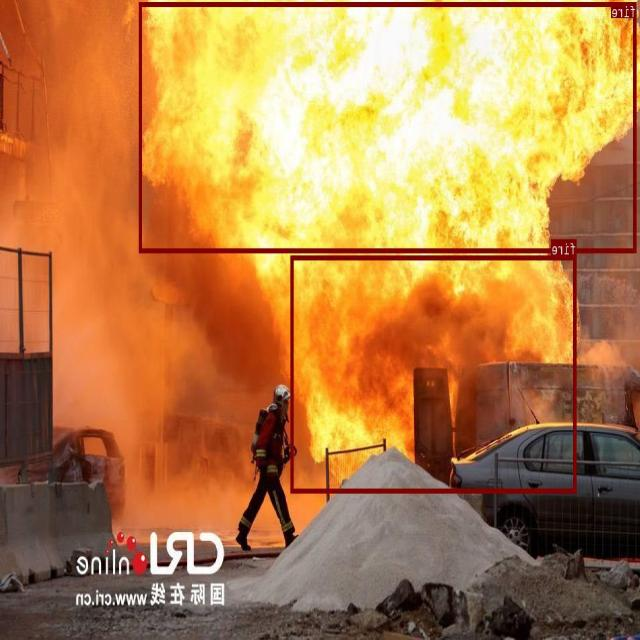fire: (140, 2, 637, 252), (291, 255, 577, 492)
